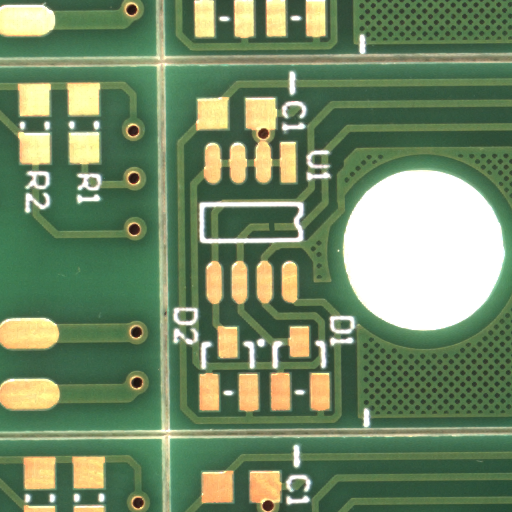Open_circuit: (270, 226, 282, 237)
